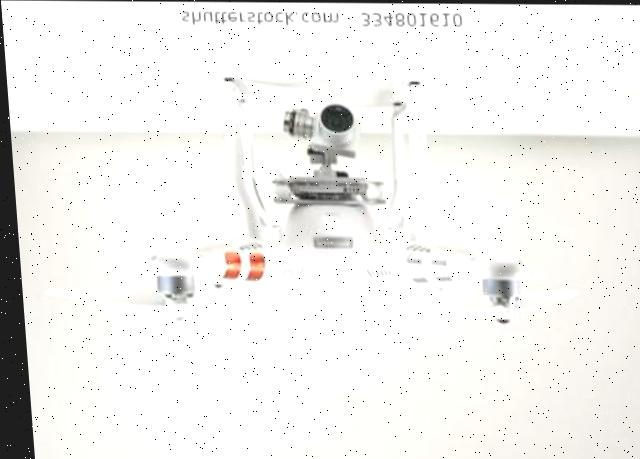drone: (3, 48, 640, 380)
